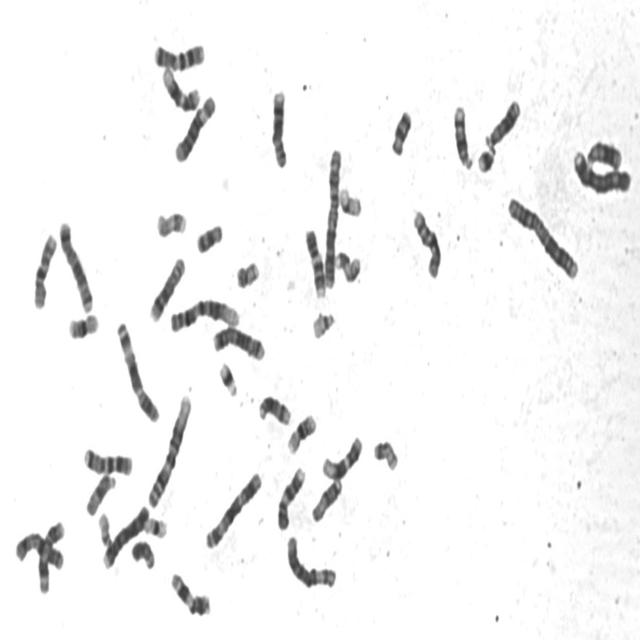A1: (144, 387, 193, 511), (166, 290, 241, 334)
A2: (503, 188, 581, 282), (320, 139, 343, 290)
A3: (201, 464, 264, 551), (113, 314, 161, 424)
B4: (100, 498, 150, 570), (569, 142, 633, 198)
B5: (55, 212, 95, 314), (209, 319, 267, 362)
C10: (409, 201, 443, 281), (28, 225, 58, 312)
C11: (35, 512, 66, 596), (167, 565, 212, 619)
C12: (158, 59, 202, 114), (319, 429, 364, 481)
C6: (170, 87, 218, 164), (283, 528, 338, 591)
C7: (150, 34, 207, 71), (80, 440, 135, 478)
C8: (146, 250, 187, 324), (267, 81, 289, 170)
C9: (274, 459, 307, 532), (302, 221, 328, 299)
D13: (481, 91, 522, 148), (582, 132, 624, 172)
D14: (450, 97, 474, 172), (254, 387, 293, 428)
D15: (308, 471, 344, 525), (82, 467, 117, 518)
E16: (283, 406, 318, 456), (64, 305, 100, 341)
E17: (332, 243, 362, 285), (153, 203, 188, 239)
E18: (388, 101, 413, 157), (193, 215, 224, 256)
F19: (336, 179, 363, 219), (142, 509, 169, 540)
F20: (370, 431, 400, 473), (232, 253, 261, 290)
G21: (216, 354, 239, 398), (474, 138, 497, 174)
G22: (308, 303, 337, 341), (95, 505, 114, 550)
X: (12, 522, 65, 572)
Y: (128, 533, 156, 571)
